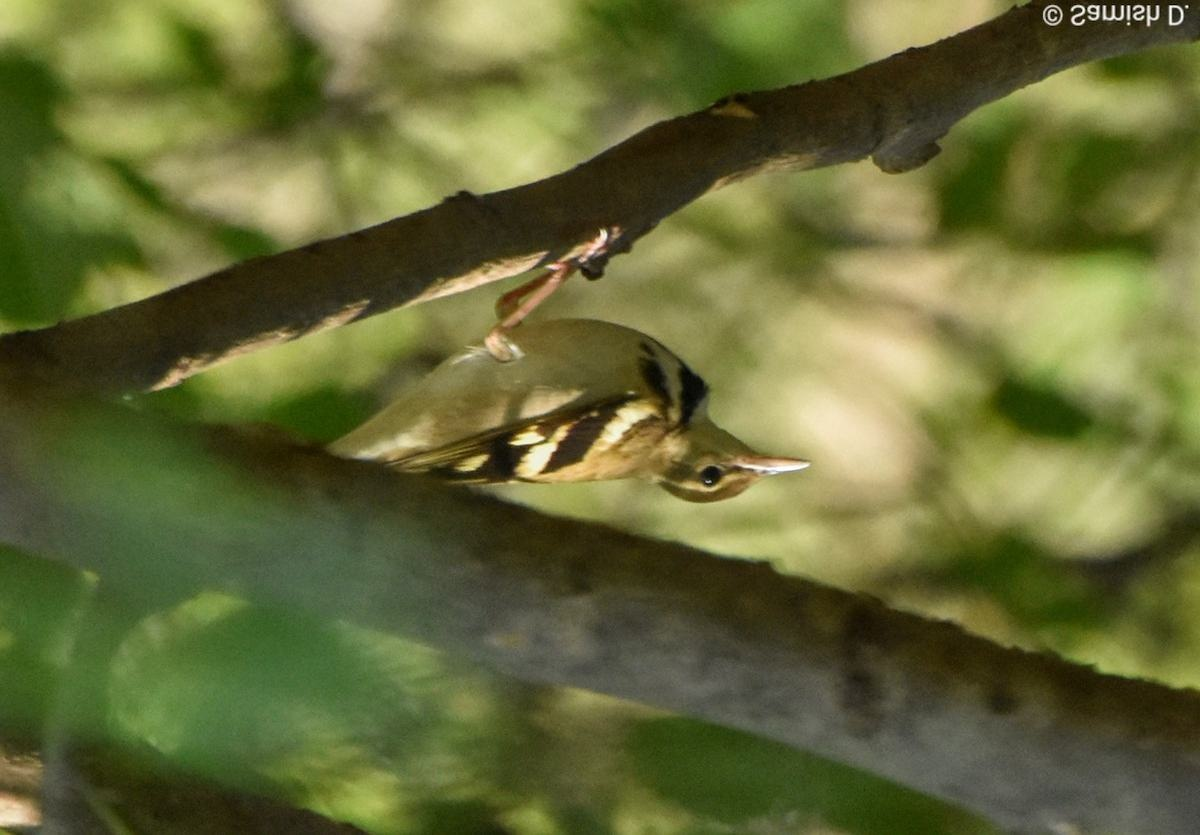wagtail: (327, 250, 818, 514)
